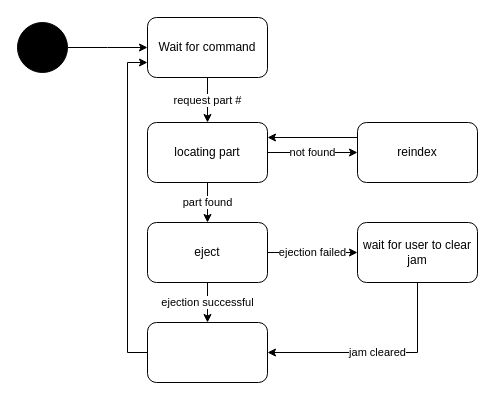
Some shapes in this 495 by 400 pixel diagram are drawn without their labels. Here are the shapes that lost their labels. From the top down, the centre of each, then its label:
At (x=42, y=47): "Start".
At (x=207, y=352): "operation finished".
